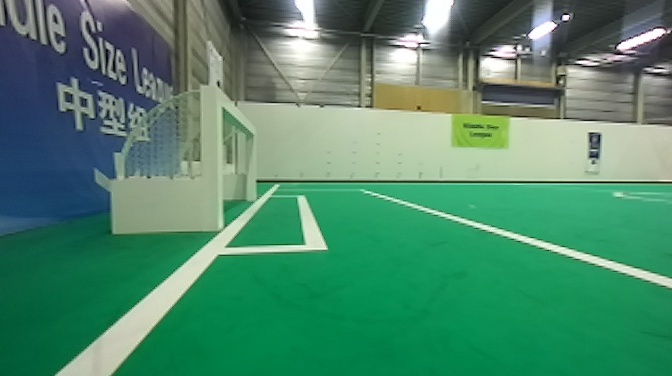goalpost: (194, 75, 226, 236), (233, 111, 263, 205)
